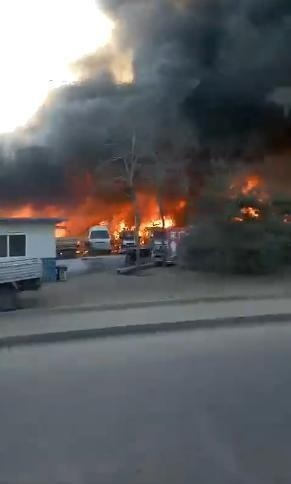fire: (107, 199, 179, 238)
